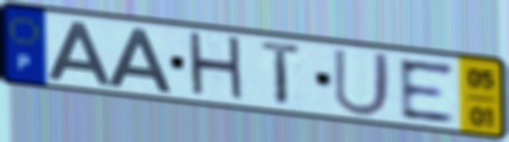A: (45, 19, 114, 88), (105, 26, 175, 94)
E: (395, 57, 459, 125)
H: (185, 29, 249, 106)
T: (258, 38, 307, 109)
U: (331, 46, 394, 119)
